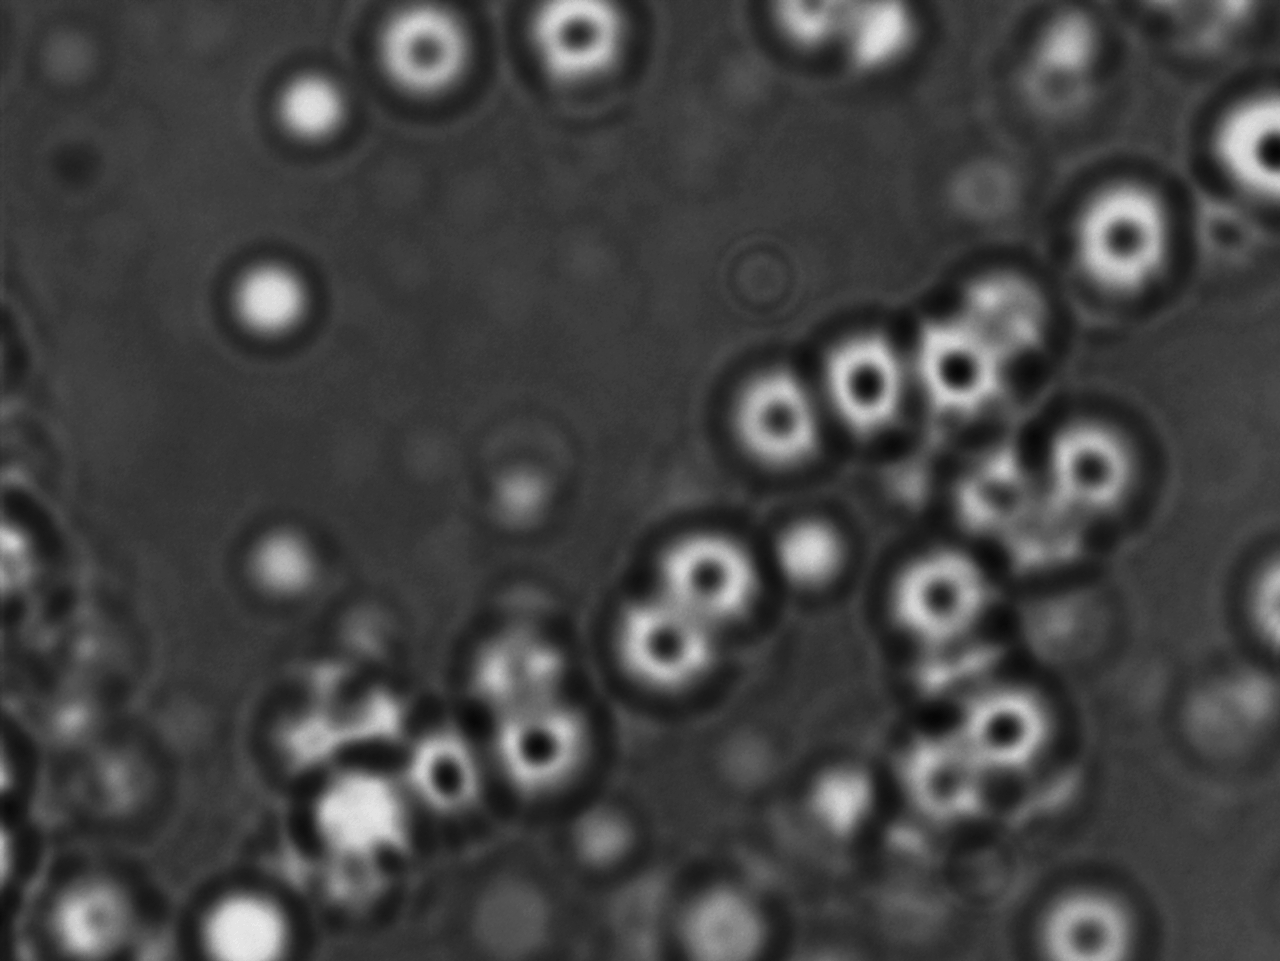depth:32: (711, 347, 856, 483), (1050, 173, 1181, 316), (1033, 400, 1168, 523), (903, 303, 1022, 433), (804, 318, 929, 440), (651, 512, 770, 635), (612, 593, 732, 706), (883, 539, 1000, 652), (390, 722, 502, 835), (486, 690, 602, 799), (954, 675, 1063, 785), (1030, 861, 1149, 961)
